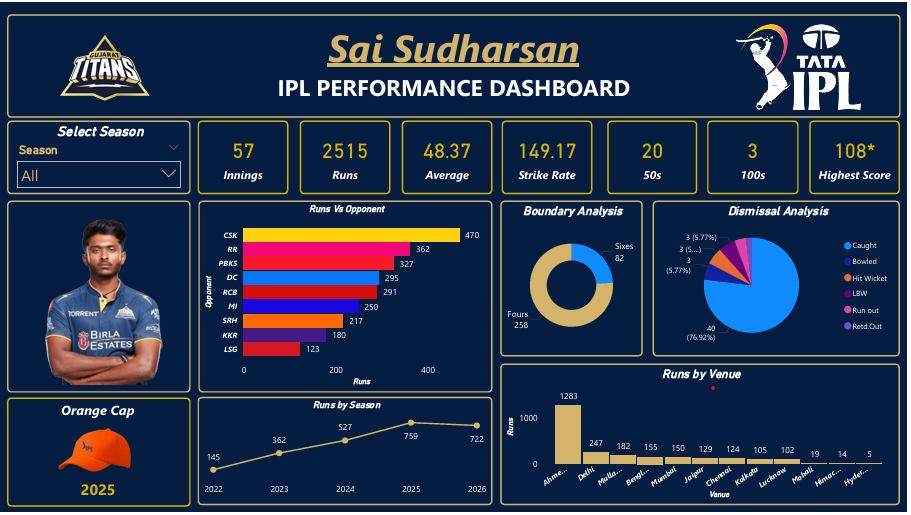

This screenshot's page, from the dashboard's own definition file:
{"tool":"powerbi","page":{"name":"Dashboard","canvas":[1280,720],"ordinal":3},"visuals":[{"type":"textbox","box":[9.6,16.5,1261.1,145.5],"z":0},{"type":"slicer","title":"Select Season","fields":{"Values":["ipl_performance_analysis innings.Season"]},"box":[9.7,166.5,259.4,103.8],"z":1000},{"type":"image","box":[22.9,264.2,249.7,300.4],"z":2000},{"type":"shape","box":[9.7,278.7,259.4,271.4],"z":3000},{"type":"card","fields":{"Values":["Imp_measure.Innings"]},"box":[277.9,166.3,130.2,103.5],"z":4000},{"type":"card","fields":{"Values":["Imp_measure.Runs"]},"box":[423.5,166.5,127.9,103.8],"z":5000},{"type":"card","fields":{"Values":["Imp_measure.Average"]},"box":[567,166.5,127.9,103.8],"z":6000},{"type":"card","fields":{"Values":["Imp_measure.Strike Rate"]},"box":[708.2,166.5,127.9,103.8],"z":7000},{"type":"card","fields":{"Values":["Imp_measure.50's"]},"box":[856.6,166.5,127.9,103.8],"z":8000},{"type":"card","fields":{"Values":["Imp_measure.100's"]},"box":[997.7,166.5,129.1,103.8],"z":9000},{"type":"card","fields":{"Values":["Imp_measure.Highest Score"]},"box":[1142.5,166.5,127.9,103.8],"z":10000},{"type":"image","box":[35,539.3,203.9,181],"z":11000},{"type":"shape","box":[9.7,557.4,259.4,153.2],"z":12000},{"type":"textbox","box":[77.2,556.2,121.9,38.6],"z":13000},{"type":"textbox","box":[14.5,667.2,248.5,42.2],"z":14000},{"type":"image","box":[25.3,0,246.1,183.4],"z":15000},{"type":"clusteredBarChart","title":"Runs Vs Opponent","fields":{"Category":["ipl_performance_analysis innings.Opponent_Short"],"Y":["Sum(ipl_performance_analysis innings.Runs)"]},"box":[279.9,278.7,415,271.4],"z":16000},{"type":"lineChart","fields":{"Category":["ipl_performance_analysis innings.Season"],"Y":["Imp_measure.Runs"]},"box":[278.7,556.2,416.2,153.2],"z":17000},{"type":"clusteredColumnChart","fields":{"Category":["ipl_performance_analysis innings.Venue"],"Y":["Imp_measure.Runs"]},"box":[705.8,509.1,564.6,200.3],"z":18000},{"type":"donutChart","title":"Boundary Analysis","fields":{"Y":["Imp_measure.Sixes","Imp_measure.Fours"]},"box":[705.8,278.7,201.5,220.8],"z":19000},{"type":"pieChart","title":"Dismissal Analysis","fields":{"Category":["ipl_performance_analysis innings.Dismissal"],"Y":["Imp_measure.Innings"]},"box":[920.5,278.7,349.9,220.8],"z":20000},{"type":"image","box":[997.7,30.2,259.4,119.4],"z":21000}]}

Visuals, with their boxes in screenshot pixels (x1, y1, x2, y2), scaled from the page's 1280x720 canvas onto the 911x515 screenshot:
textbox: Rect(7, 12, 904, 116)
"Select Season" slicer: Rect(7, 119, 192, 193)
image: Rect(16, 189, 194, 404)
shape: Rect(7, 199, 192, 393)
card - Imp_measure.Innings: Rect(198, 119, 290, 193)
card - Imp_measure.Runs: Rect(301, 119, 392, 193)
card - Imp_measure.Average: Rect(404, 119, 495, 193)
card - Imp_measure.Strike Rate: Rect(504, 119, 595, 193)
card - Imp_measure.50's: Rect(610, 119, 701, 193)
card - Imp_measure.100's: Rect(710, 119, 802, 193)
card - Imp_measure.Highest Score: Rect(813, 119, 904, 193)
image: Rect(25, 386, 170, 514)
shape: Rect(7, 399, 192, 508)
textbox: Rect(55, 398, 142, 425)
textbox: Rect(10, 477, 187, 507)
image: Rect(18, 0, 193, 131)
"Runs Vs Opponent" clusteredBarChart: Rect(199, 199, 495, 393)
lineChart - ipl_performance_analysis innings.Season x Imp_measure.Runs: Rect(198, 398, 495, 507)
clusteredColumnChart - ipl_performance_analysis innings.Venue x Imp_measure.Runs: Rect(502, 364, 904, 507)
"Boundary Analysis" donutChart: Rect(502, 199, 646, 357)
"Dismissal Analysis" pieChart: Rect(655, 199, 904, 357)
image: Rect(710, 22, 895, 107)
